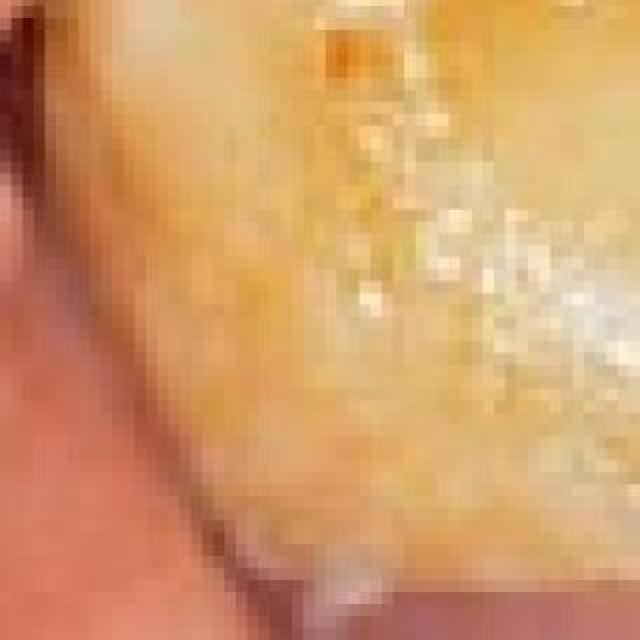plaque: (44, 0, 640, 628)
